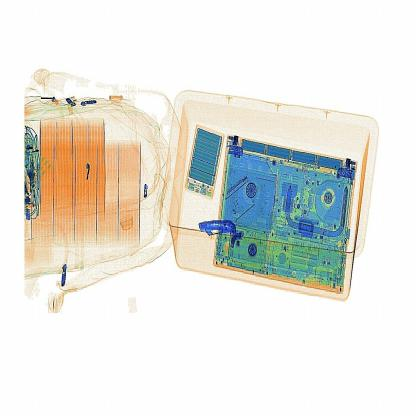knife: (190, 212, 243, 247)
